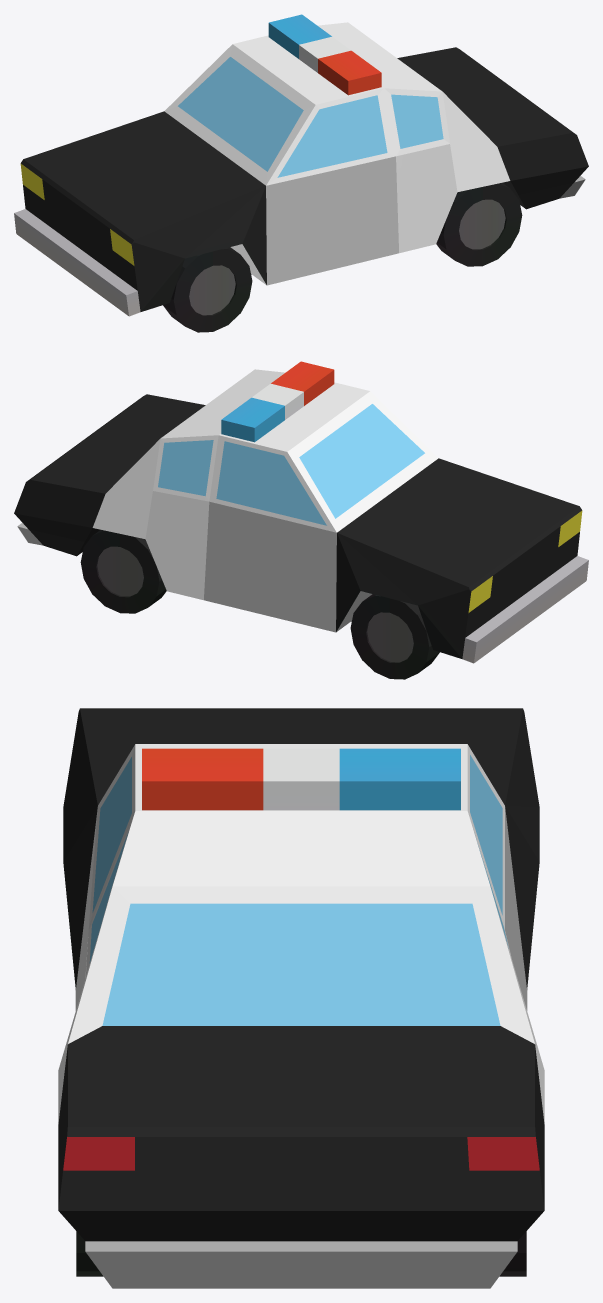
File: PoliceCar.fbx
3 views of the same model, one above another, from view 1: azimuth 30°, elevation 25°; view 2: azimuth 150°, elevation 25°; view 3: azimuth 270°, elevation 25° (orthographic). The views are drawn at different scales.
Parts seen in each view (by area): view 1: PoliceCarBody, PoliceCarTires; view 2: PoliceCarBody, PoliceCarTires; view 3: PoliceCarBody, PoliceCarTires.
Boxes of the visible parts, <box> form: PoliceCarBody: <box>14,14,588,316</box>; PoliceCarTires: <box>163,183,522,332</box>; PoliceCarBody: <box>14,361,588,663</box>; PoliceCarTires: <box>80,530,439,679</box>; PoliceCarBody: <box>58,708,544,1288</box>; PoliceCarTires: <box>76,1231,526,1276</box>.
Bounding box in the file's own units: 279 × 117 × 127.
